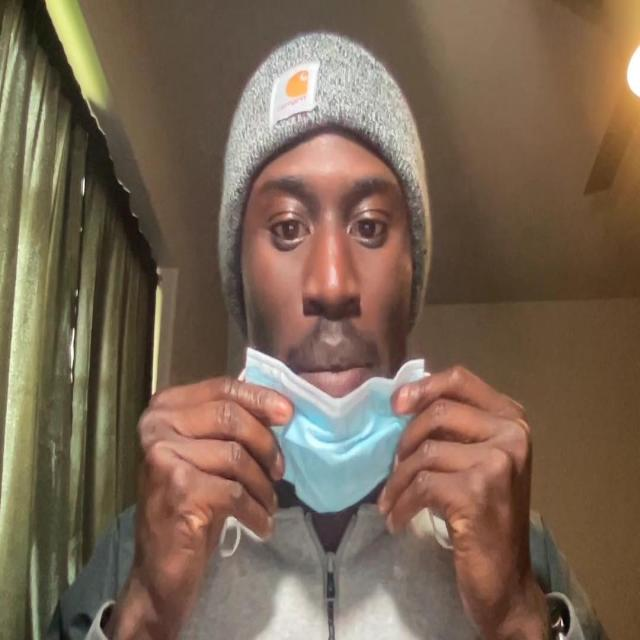face: (239, 105, 426, 509)
